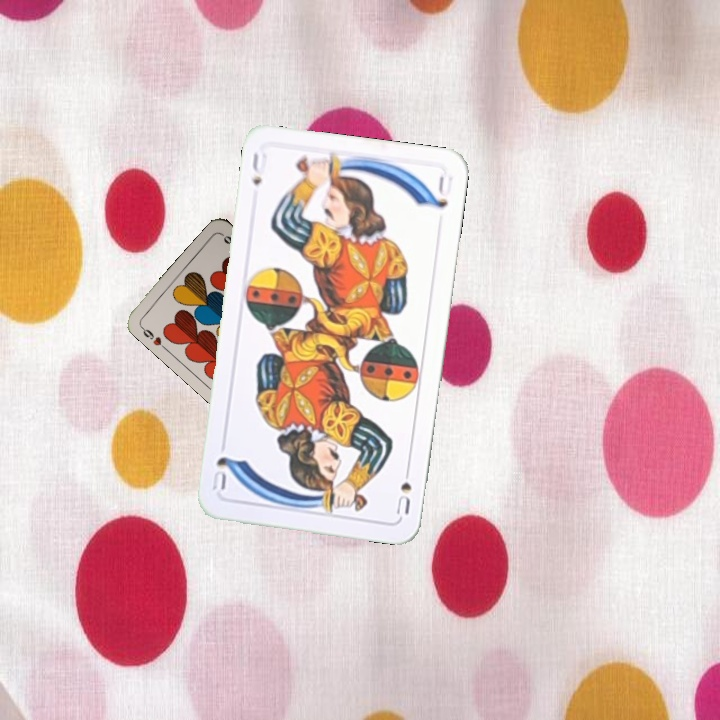H9: (136, 322, 170, 353)
SU: (392, 460, 414, 518), (248, 148, 270, 188)
